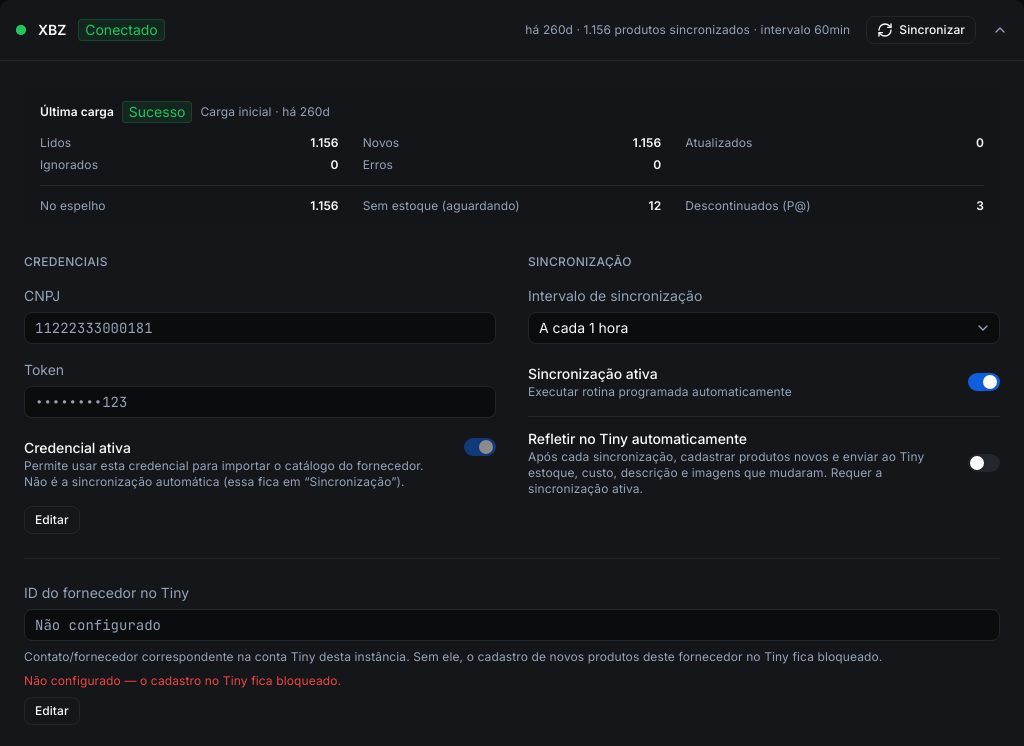
Scenario: FornecedorAcordeao › xbz preenche somente públicos e descarta alterações ao cancelar
The width and height of the screenshot is (1024, 746).
Click the button "Editar" below "Credencial ativa" at (52, 520), box top-left (24, 506), bottom-right (80, 534)
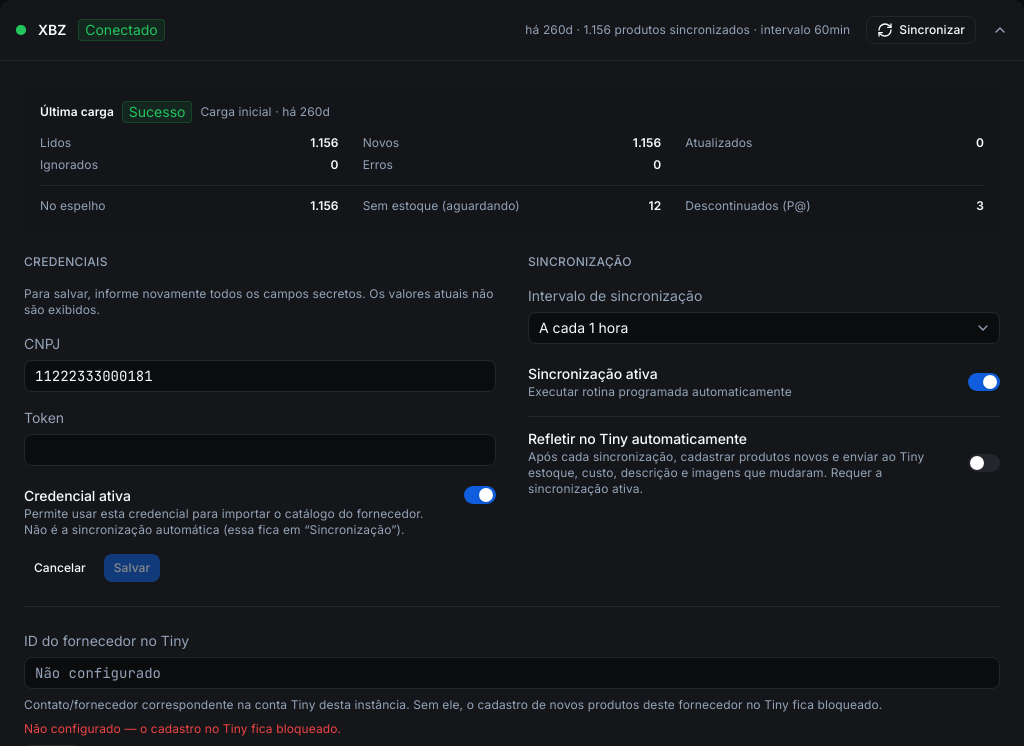
Replace the text in the field labelled "CNPJ" with "alteracao-descartada" at (260, 376), box top-left (24, 360), bottom-right (496, 392)
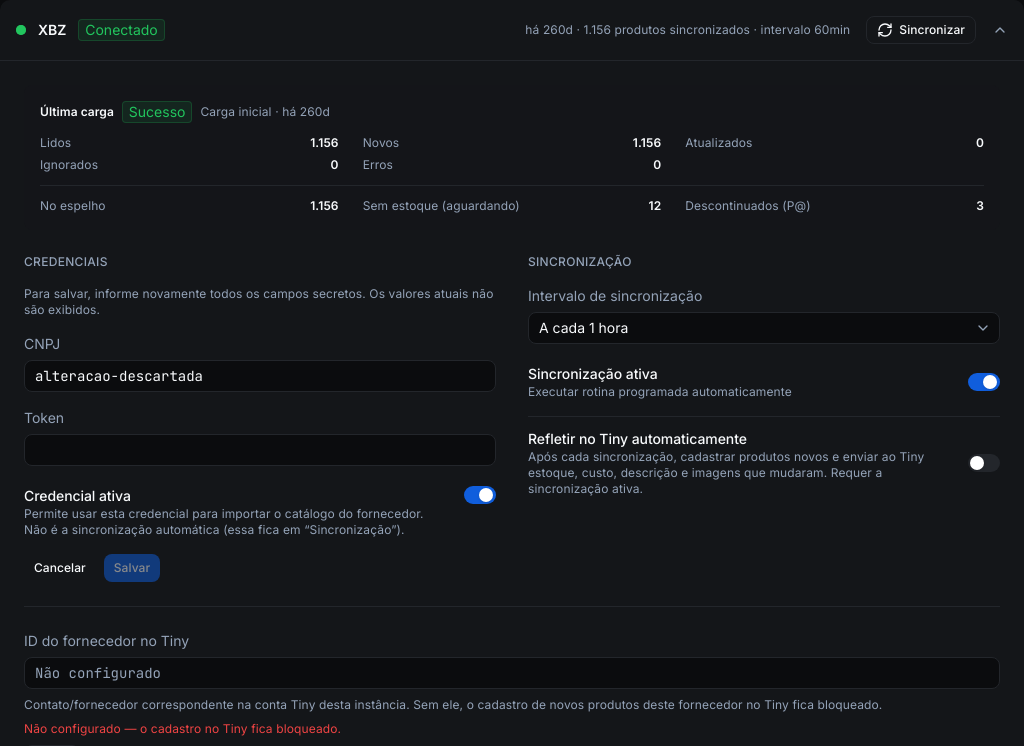
Now the password field labelled "Token" is empty
Type "alteracao-descartada" into the password field labelled "Token" at (260, 450), box top-left (24, 434), bottom-right (496, 466)
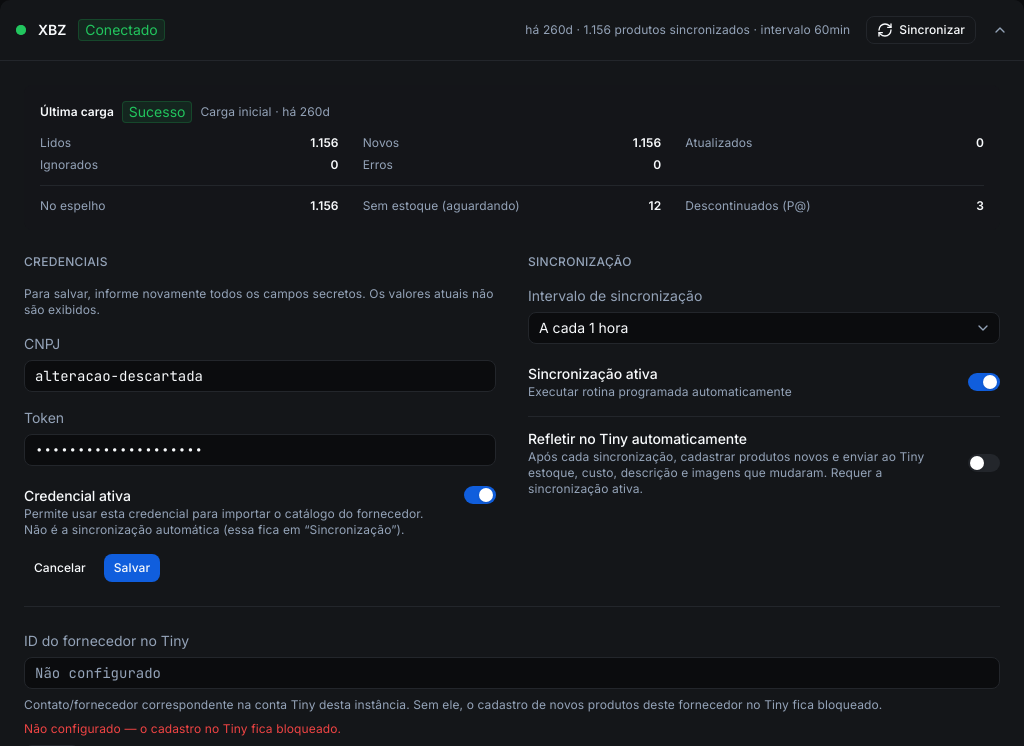
Click the button "Cancelar" at (60, 568), box top-left (24, 554), bottom-right (96, 582)
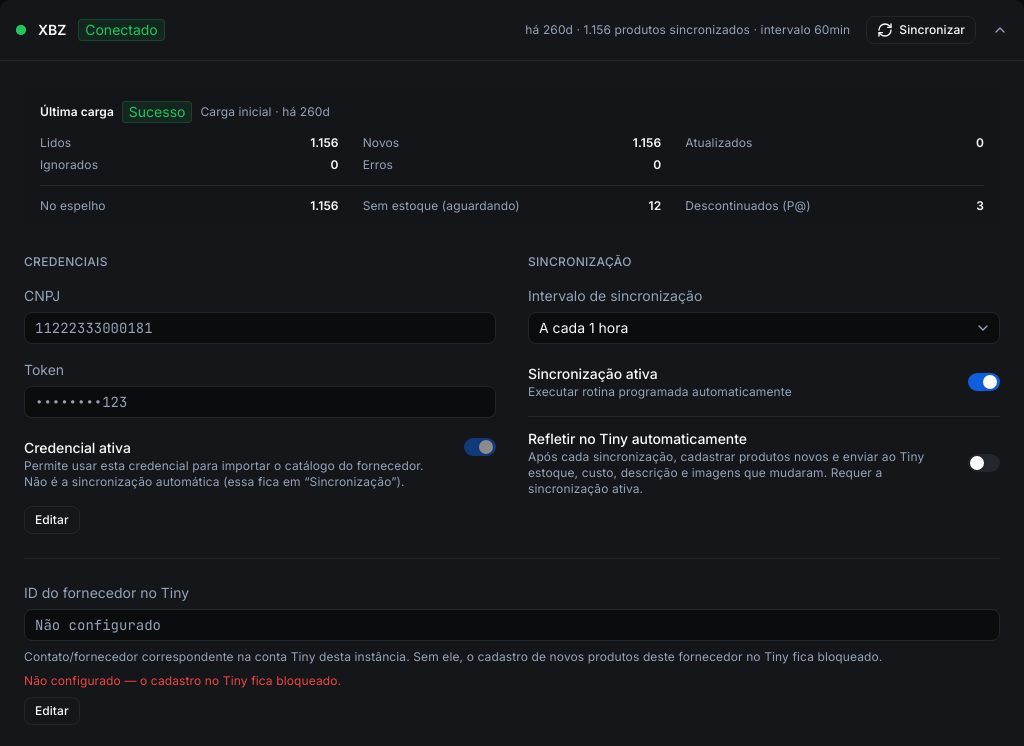
Now the field labelled "CNPJ" holds "11222333000181", box top-left (24, 312), bottom-right (496, 344)
Now the field labelled "Token" holds "••••••••123", box top-left (24, 386), bottom-right (496, 418)
Now the text "salvar" is gone
Click the button "Editar" below "Credencial ativa" at (52, 520), box top-left (24, 506), bottom-right (80, 534)
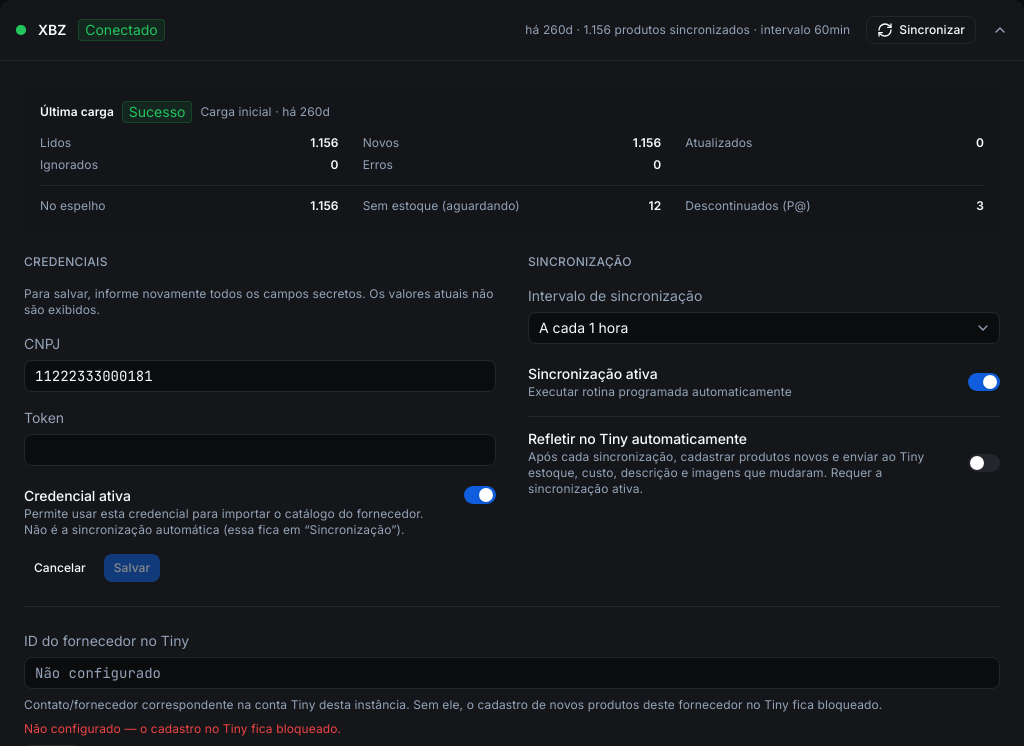
Now the field labelled "CNPJ" holds "11222333000181", box top-left (24, 360), bottom-right (496, 392)
Now the password field labelled "Token" is empty, box top-left (24, 434), bottom-right (496, 466)
